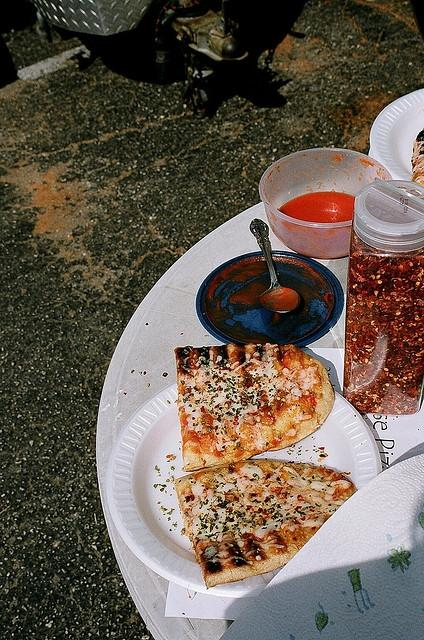hot pepper: (343, 210, 424, 416), (391, 343, 399, 350), (365, 316, 374, 322), (379, 312, 387, 318), (386, 300, 392, 306), (394, 320, 398, 326)
